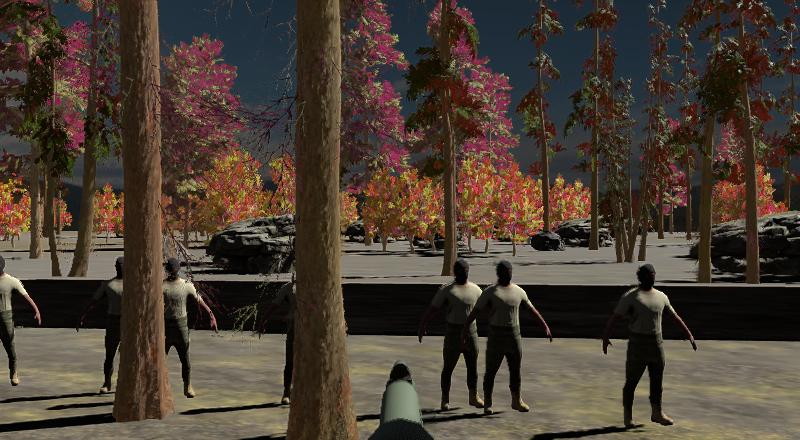Human: (78, 236, 218, 402), (597, 235, 702, 430), (464, 236, 557, 416), (85, 232, 164, 400), (275, 223, 321, 409), (271, 225, 316, 408), (0, 231, 45, 393), (0, 234, 45, 393)
